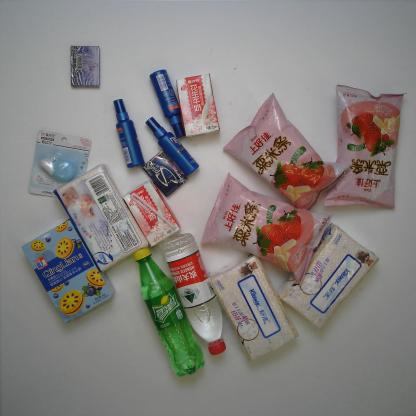Dessert: (18, 215, 119, 326)
Drink: (128, 245, 209, 378), (156, 229, 229, 360)
Gum: (140, 146, 191, 199), (64, 43, 104, 92)
Milk: (119, 175, 183, 250), (173, 70, 223, 142)
Personal Hygiene: (142, 113, 201, 177), (148, 65, 190, 141), (109, 94, 147, 169)
Puffed Food: (195, 168, 337, 289), (219, 89, 353, 213), (320, 80, 408, 214)
Stationery: (22, 126, 96, 201)
Tissue: (272, 219, 383, 333), (50, 161, 150, 274), (205, 251, 303, 366)
